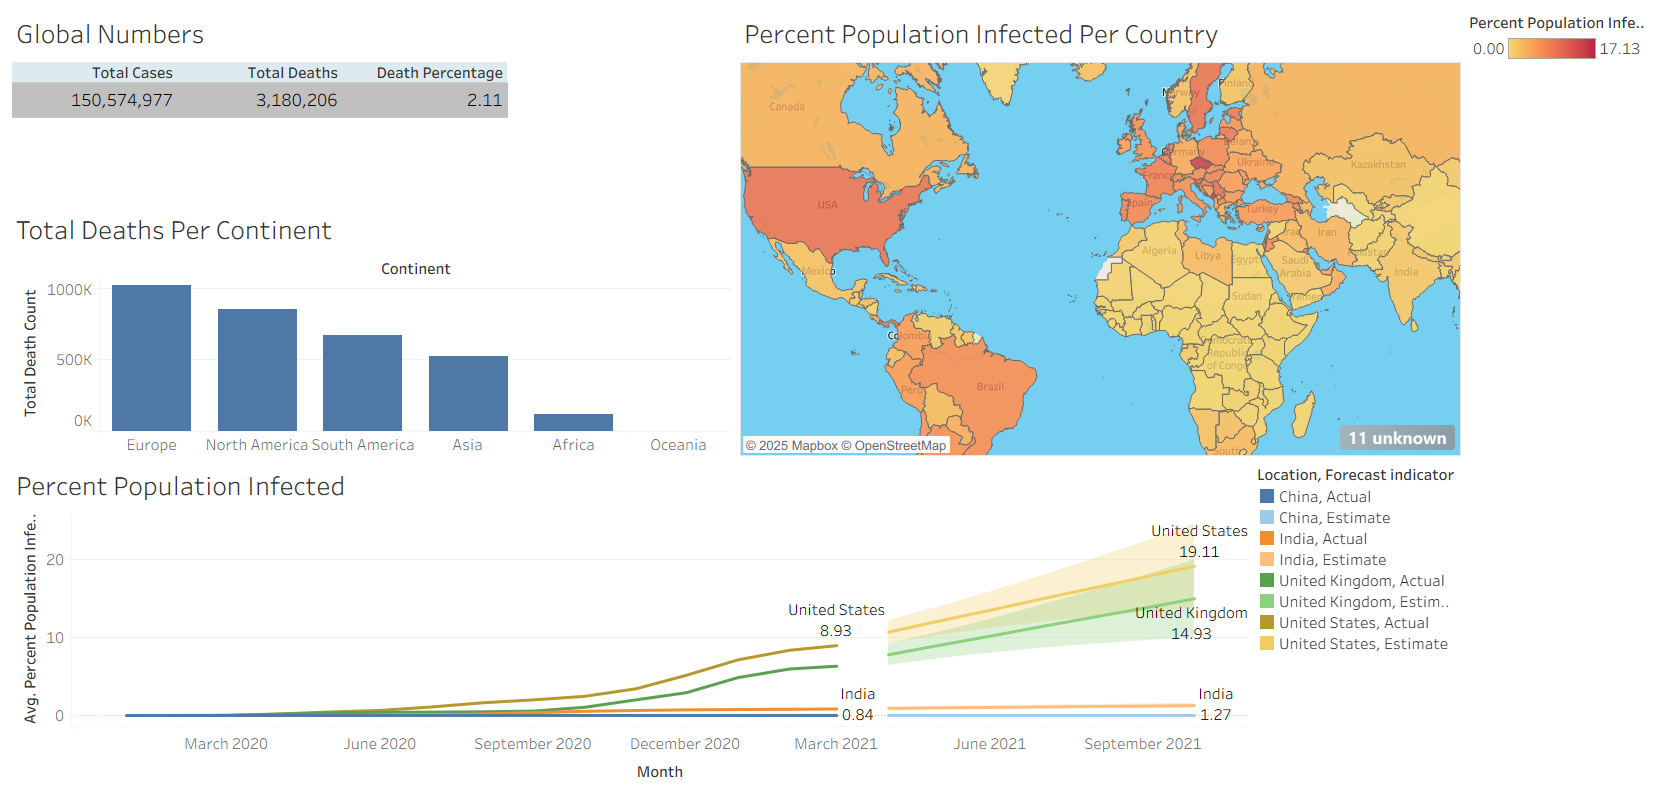

The page's visual inventory and layout, read from the dashboard file:
{"tool":"tableau","page":{"name":"Dashboard 1","canvas":[1000,1000],"units":"permille","ordinal":0},"visuals":[{"type":"worksheet","title":"Sheet 1","mark":"Automatic","box":[4.7,10,441.4,245]},{"type":"worksheet","title":"Sheet 3","mark":"Automatic","box":[446,10,441.5,564.3]},{"type":"legend","title":"Sheet 3","param":"[federated.0oyc28d18adq9l11hwic910lclzk].[sum:PercentPopulationInfected:qk]","box":[887.5,10,107.8,91.1]},{"type":"worksheet","title":"Sheet 2","mark":"Automatic","rows":["TotalDeathCount"],"cols":["location"],"box":[4.7,255,441.4,319.3]},{"type":"worksheet","title":"Sheet 4","mark":"Automatic","rows":["PercentPopulationInfected"],"cols":["date"],"box":[4.7,574.3,754.5,415.7]},{"type":"legend","title":"Sheet 4","param":"[federated.0tmufz60u0idaw1c607ro1vyunhq].[none:Location:nk]\n[federated.0tmufz60u","box":[759.2,574.3,128.3,415.7]}]}

Visuals, with their boxes on the dashboard's canvas, which has no fixed pixel size, in thousandths of its width and height (x1, y1, x2, y2). These are canvas units, not pixel positions in the 1657x788 screenshot, which may show the page scaled, cropped or inside an application window:
"Sheet 1" worksheet: locate(5, 10, 446, 255)
"Sheet 3" worksheet: locate(446, 10, 888, 574)
"Sheet 3" legend: locate(888, 10, 995, 101)
"Sheet 2" worksheet: locate(5, 255, 446, 574)
"Sheet 4" worksheet: locate(5, 574, 759, 990)
"Sheet 4" legend: locate(759, 574, 888, 990)
